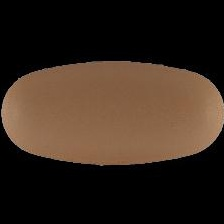65862-654: (0, 0, 224, 224)
